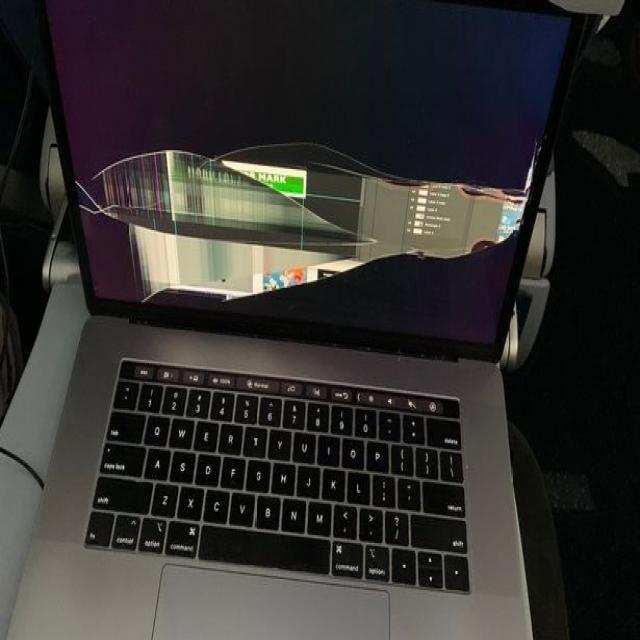Screen cracks: (62, 94, 558, 376)
